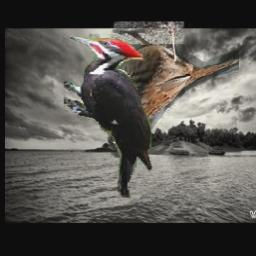Sparrow: (108, 21, 239, 158)
Woodpecker: (65, 34, 153, 198)
